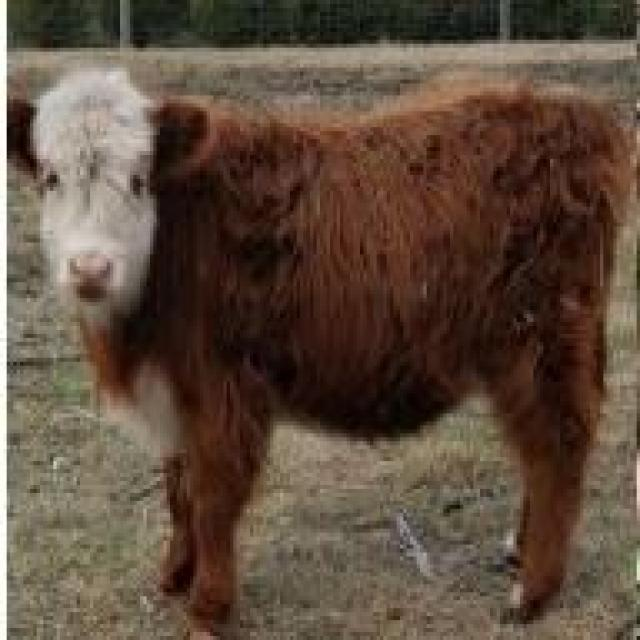Missing component: (7, 64, 637, 636)
